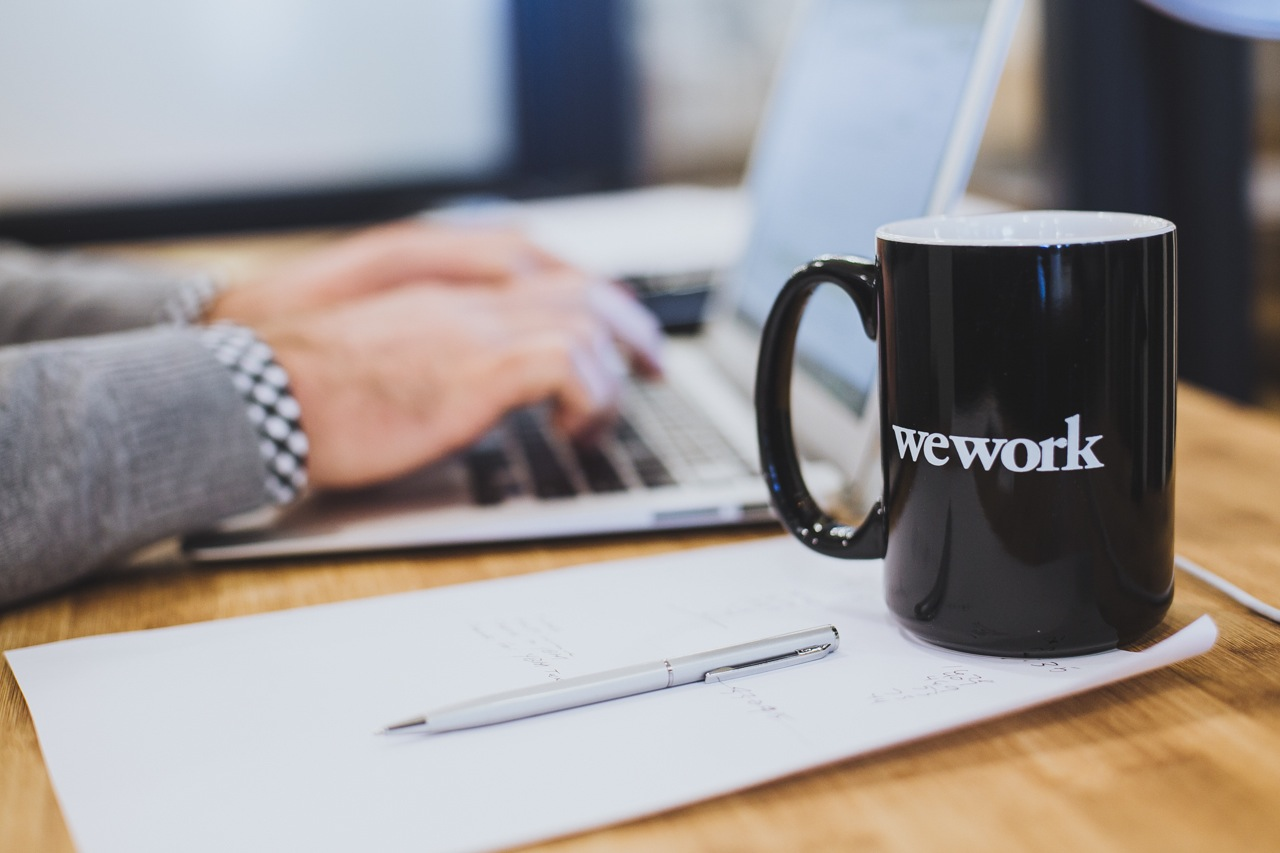wework: (891, 410, 1105, 476)
